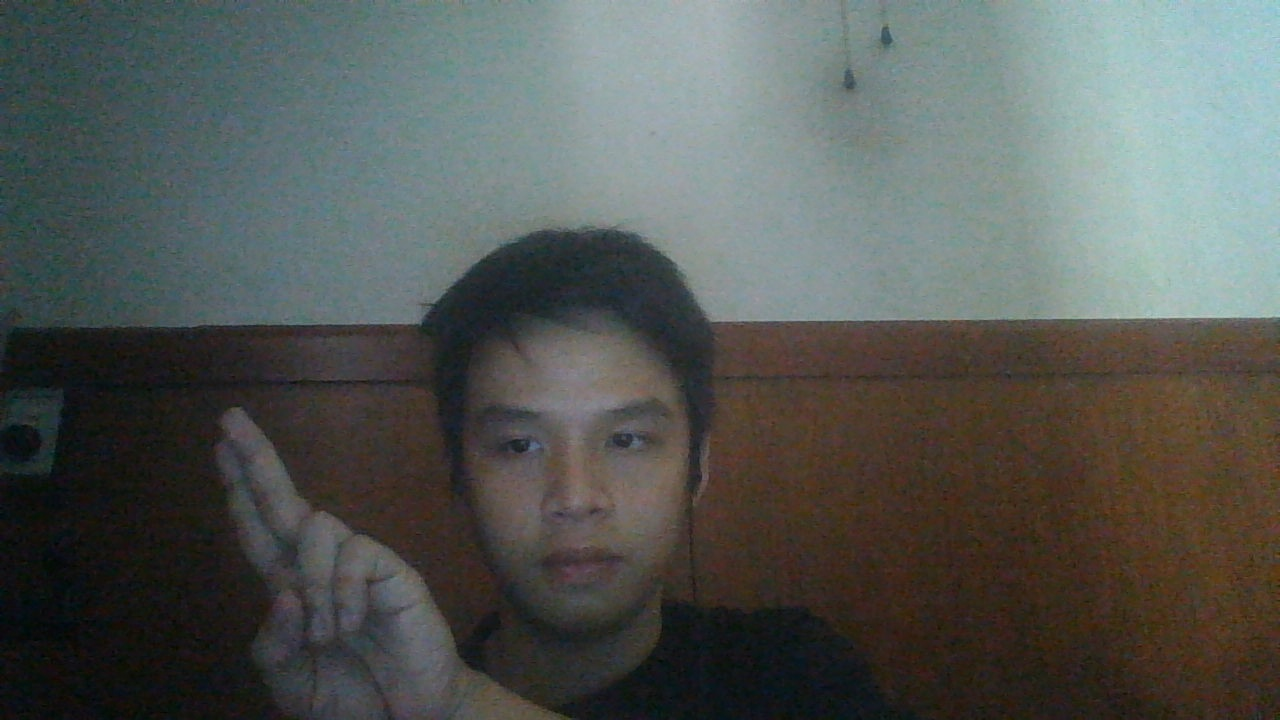write1: (206, 407, 469, 720)
